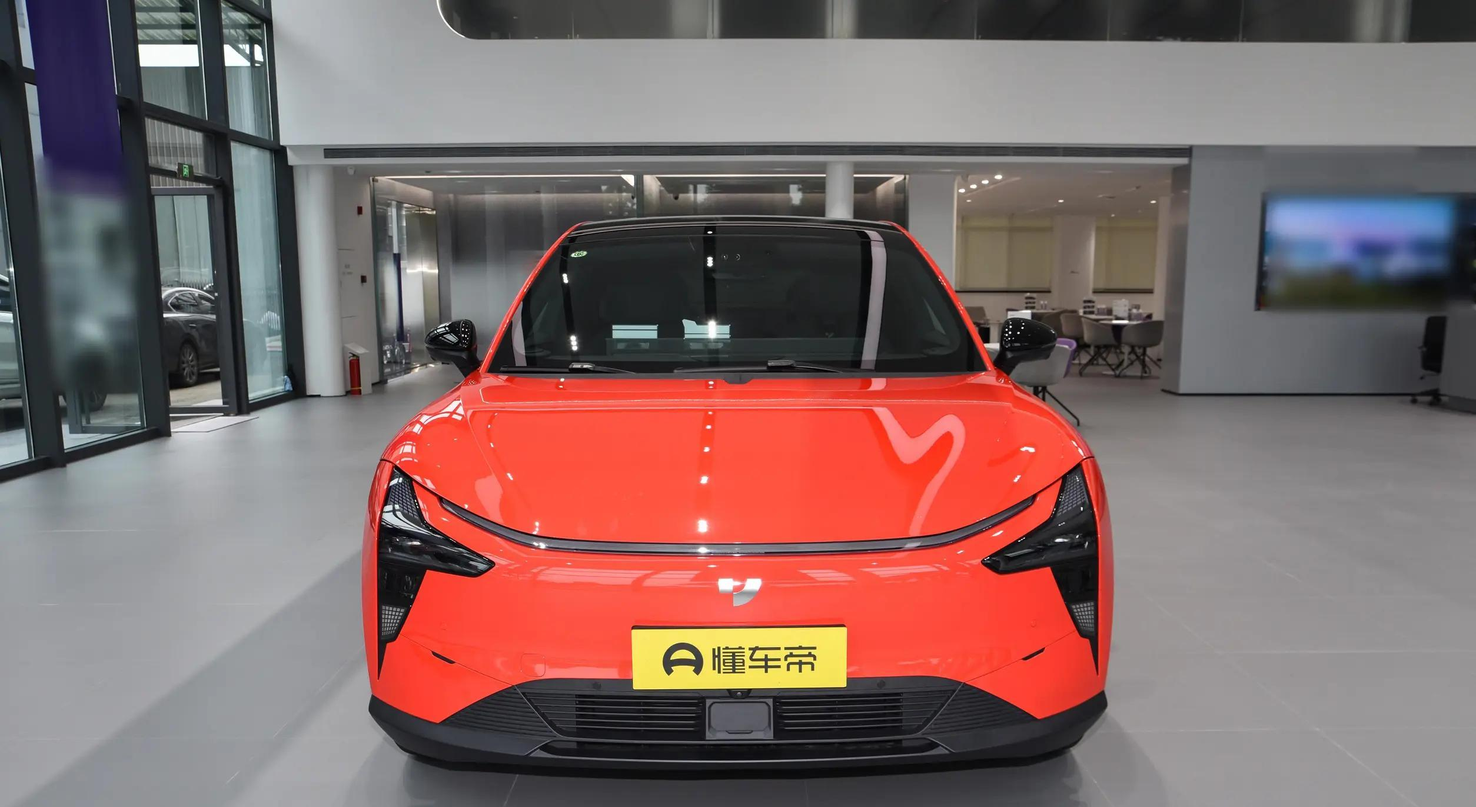JIYUE: (717, 577, 763, 608)
